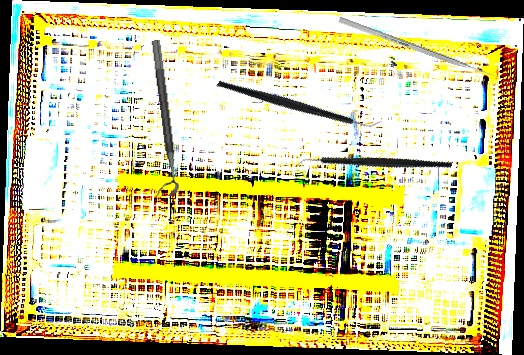Chopper: (215, 28, 384, 178), (294, 107, 454, 224)
Fixation Ring: (138, 39, 180, 198)
Pusher: (338, 16, 502, 82)
